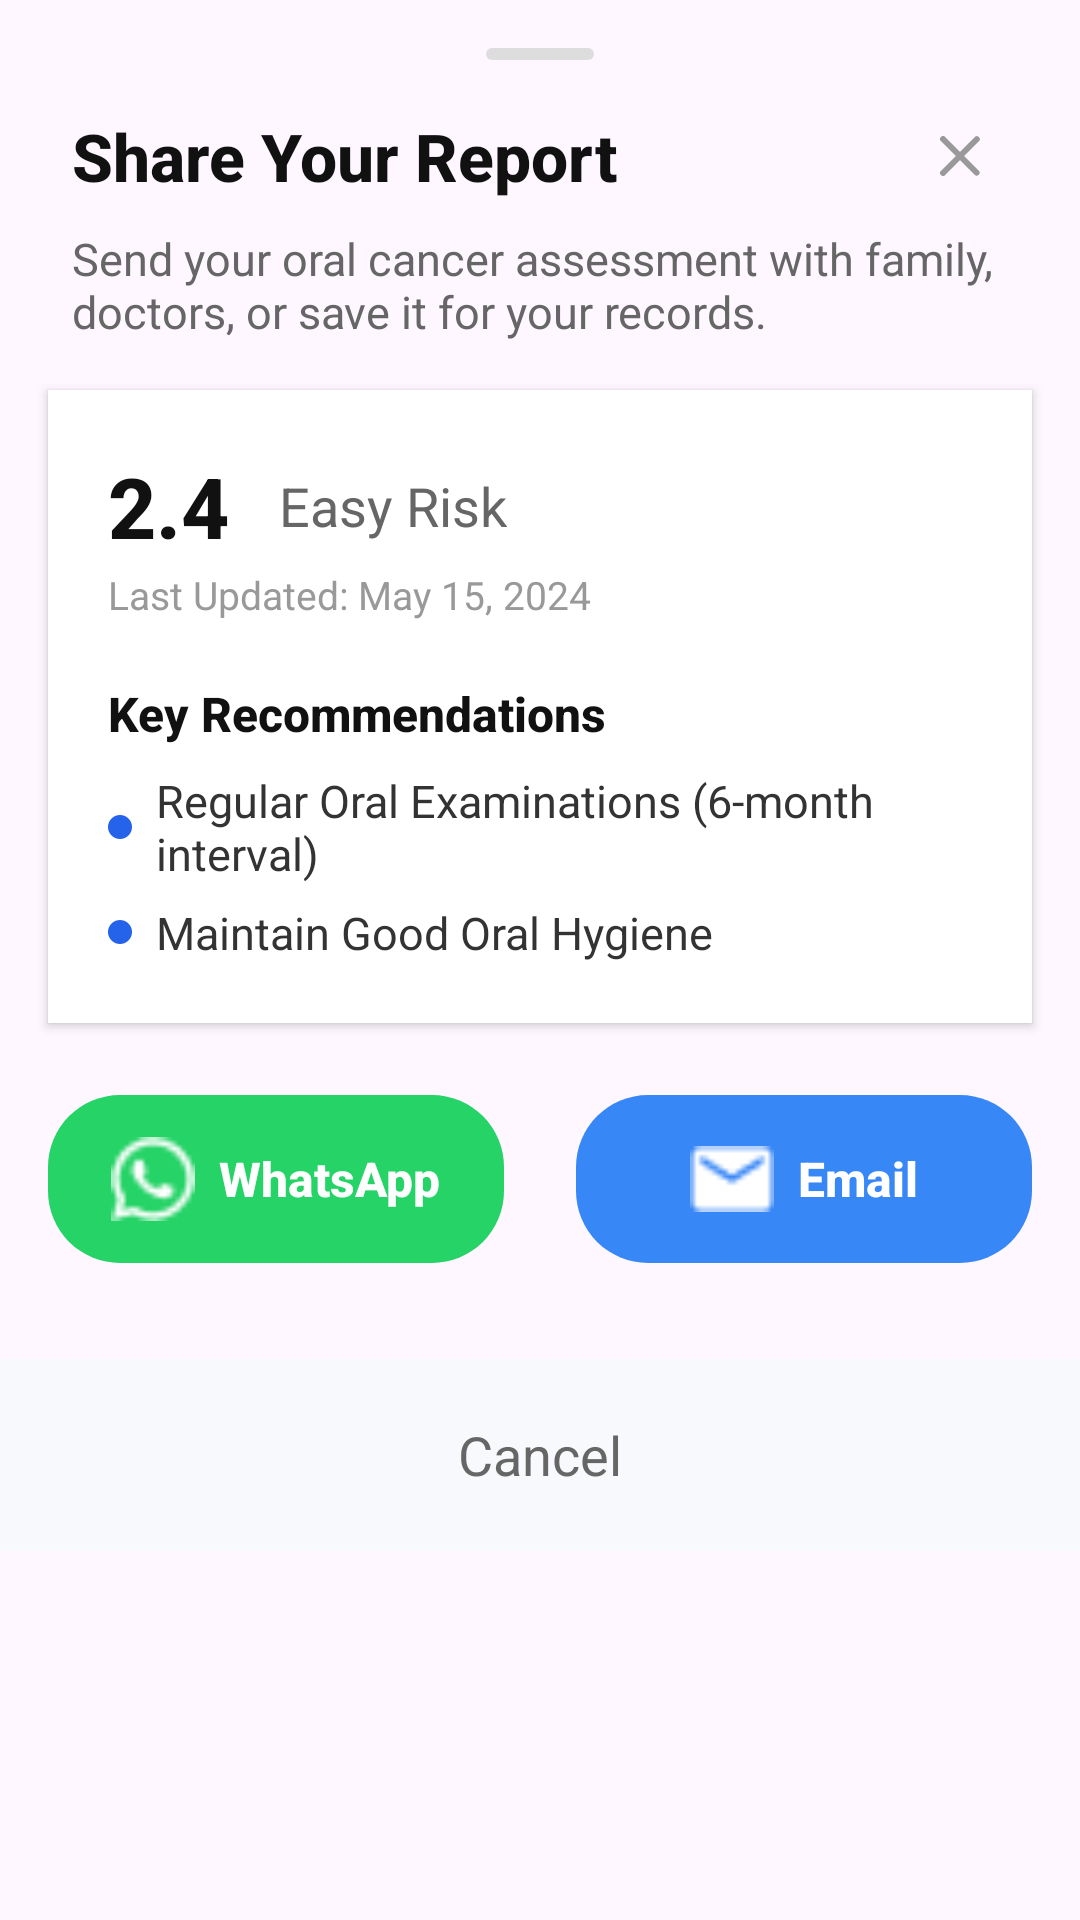

Named icons in this screenshot (1080 × 1920) and their bounding boxes, (x1, y1, x2, y2):
Close: (940, 136, 980, 176)
